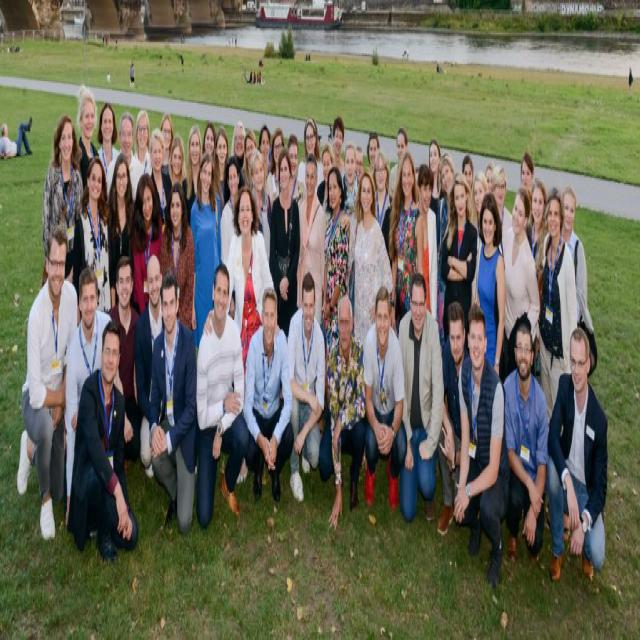body: (201, 184, 281, 486), (15, 223, 79, 545), (66, 316, 140, 564), (544, 326, 607, 588), (195, 256, 246, 534), (454, 300, 504, 578), (391, 270, 444, 526), (64, 268, 114, 530), (149, 270, 197, 539), (242, 281, 292, 510), (502, 318, 548, 566), (535, 185, 579, 438), (285, 264, 328, 509), (326, 292, 368, 531), (362, 278, 404, 512), (499, 184, 541, 384), (348, 169, 393, 351), (71, 154, 117, 330), (436, 300, 470, 538), (320, 162, 351, 414), (133, 252, 166, 482), (107, 254, 141, 467), (438, 170, 478, 345), (389, 150, 424, 342), (190, 150, 223, 351), (268, 145, 300, 347), (42, 112, 84, 256), (476, 190, 506, 377), (295, 152, 326, 332), (159, 180, 195, 332), (559, 186, 592, 336), (131, 170, 165, 315), (106, 150, 136, 314), (435, 155, 457, 362), (414, 161, 439, 320), (106, 110, 144, 204), (369, 148, 394, 272), (468, 172, 489, 304), (250, 145, 272, 269), (76, 83, 100, 192), (128, 108, 154, 206), (149, 126, 173, 228), (96, 98, 120, 198), (297, 114, 325, 194), (181, 123, 202, 228), (490, 160, 514, 247), (527, 176, 549, 267), (163, 132, 188, 208), (387, 123, 409, 200), (265, 128, 285, 211), (0, 114, 35, 159), (316, 142, 335, 223), (286, 133, 306, 209), (428, 136, 448, 212), (340, 142, 360, 217), (133, 108, 153, 180), (240, 128, 259, 192), (229, 120, 247, 184), (214, 125, 228, 206), (462, 153, 477, 226), (332, 116, 346, 192), (159, 111, 174, 179), (257, 123, 272, 181), (221, 205, 237, 259), (240, 58, 266, 90), (519, 148, 535, 190), (366, 131, 381, 175), (100, 25, 120, 56), (202, 120, 216, 155), (2, 37, 24, 59), (433, 58, 448, 86), (398, 40, 413, 66), (227, 27, 242, 53), (354, 142, 364, 181), (484, 156, 496, 186), (128, 61, 138, 94), (626, 62, 634, 100), (177, 52, 187, 81), (302, 47, 314, 67)
